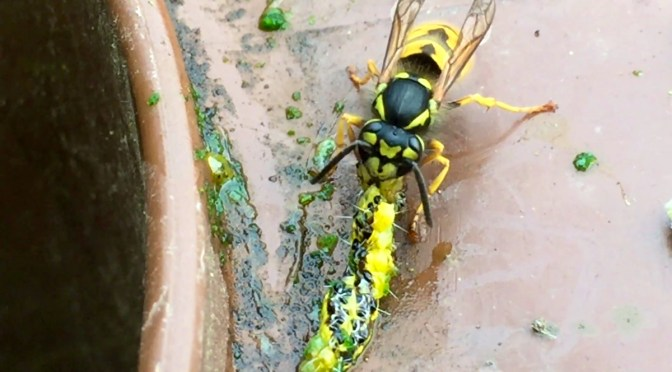chax: (300, 1, 589, 228)
